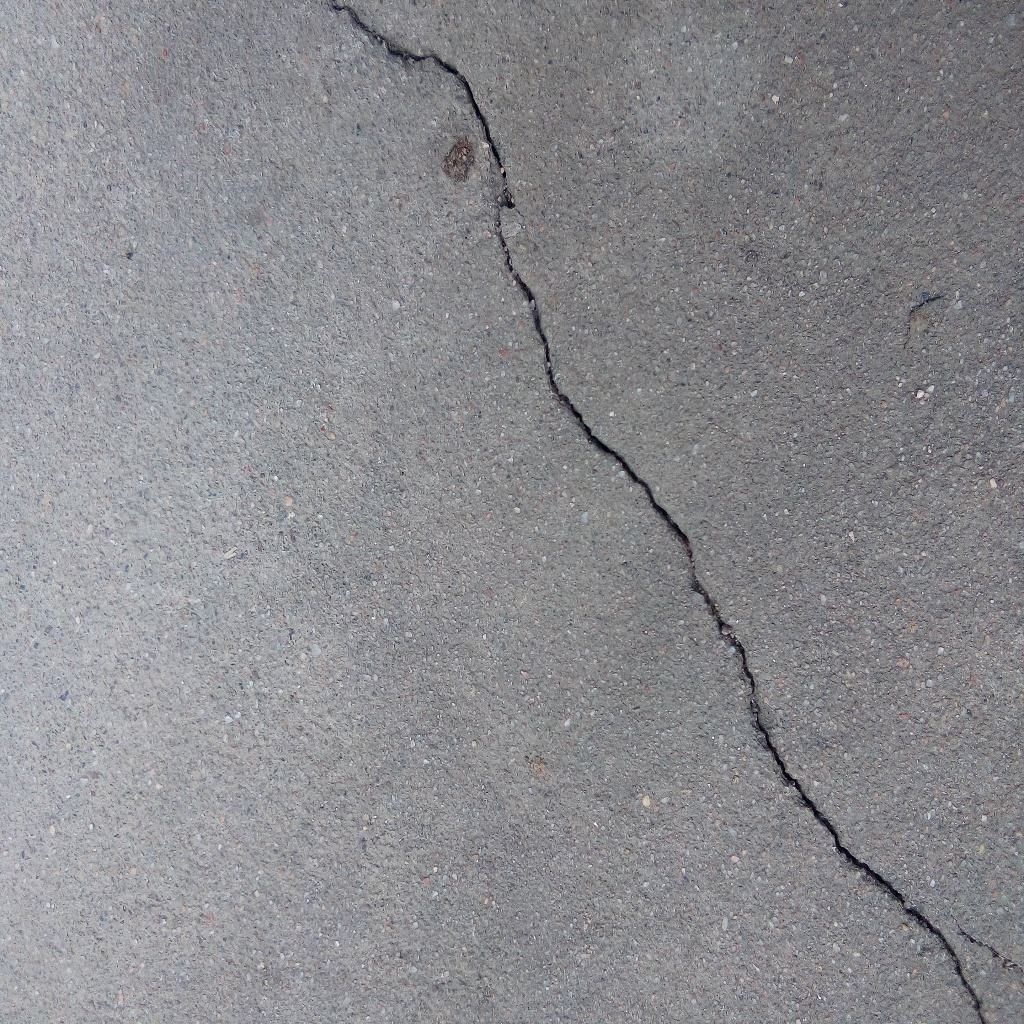Crack: (327, 1, 986, 1024)
